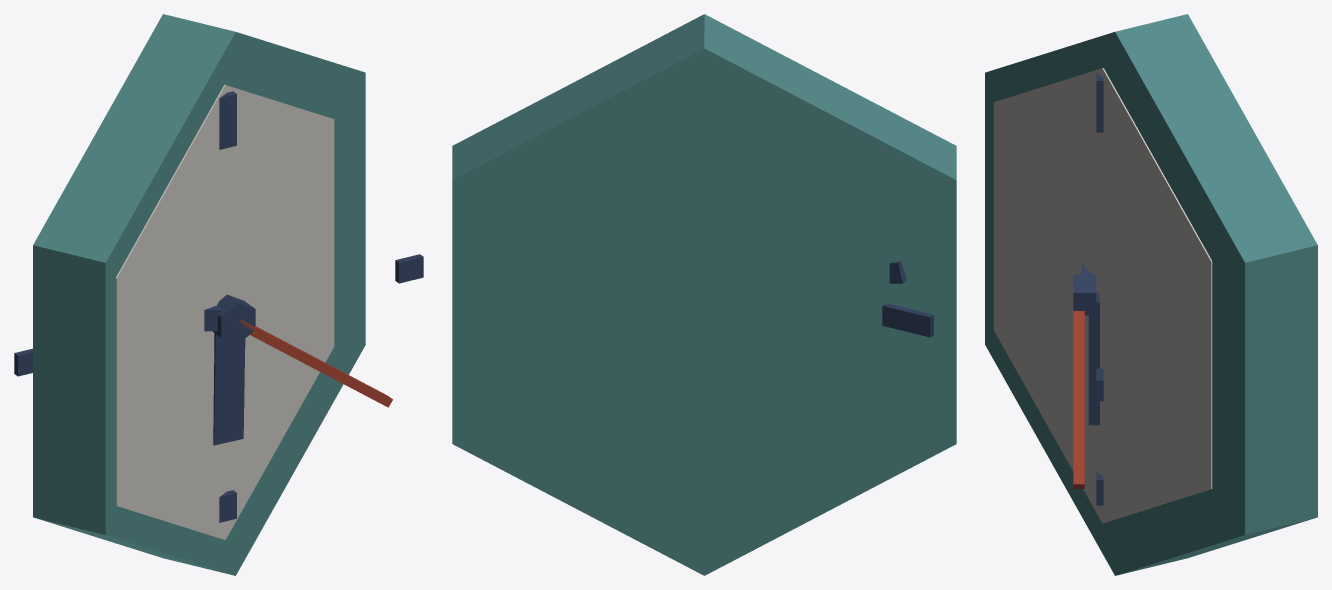
The model's file is wall-clock-21.glb.
3 views of the same model, side by side, from view 1: azimuth 30°, elevation 25°; view 2: azimuth 150°, elevation 25°; view 3: azimuth 270°, elevation 25° (orthographic). The views are drawn at different scales.
Visible parts, largest first — view 1: wall_clock_21; view 2: wall_clock_21; view 3: wall_clock_21.
Boxes of the visible parts, x1=… form: wall_clock_21: x1=14, y1=14, x2=423, y2=575; wall_clock_21: x1=452, y1=14, x2=956, y2=575; wall_clock_21: x1=985, y1=14, x2=1317, y2=575.
Size of the model in its own units: 0.2589 by 0.3157 by 0.175.
